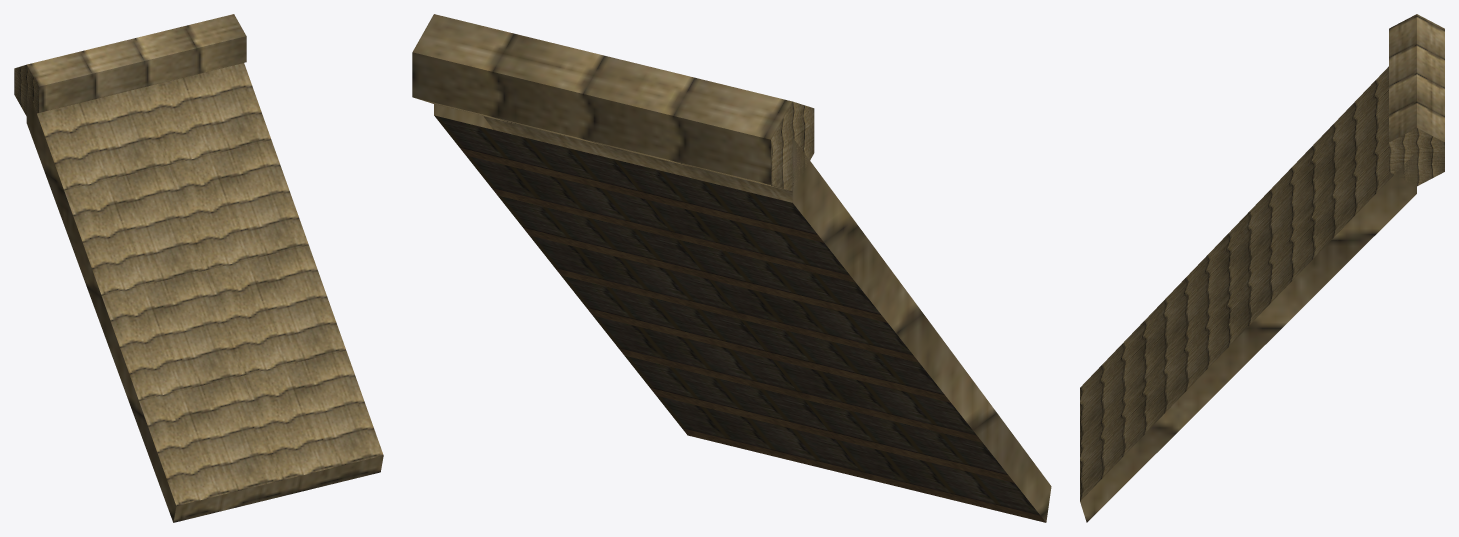
Rendered from roof_thatch.obj.
The picture shows the model from 3 angles, left to right: view 1: azimuth 30°, elevation 25°; view 2: azimuth 150°, elevation 25°; view 3: azimuth 270°, elevation 25°; orthographic projection. The views are drawn at different scales.
Visible parts, largest first — view 1: roof_thatch; view 2: roof_thatch; view 3: roof_thatch.
Part boxes in pixels (x1=…): roof_thatch: x1=14, y1=14, x2=383, y2=522; roof_thatch: x1=412, y1=14, x2=1051, y2=522; roof_thatch: x1=1080, y1=14, x2=1444, y2=522.
Size of the model in its own units: 2 by 3.24 by 2.71.
1 material, 1 textured.
